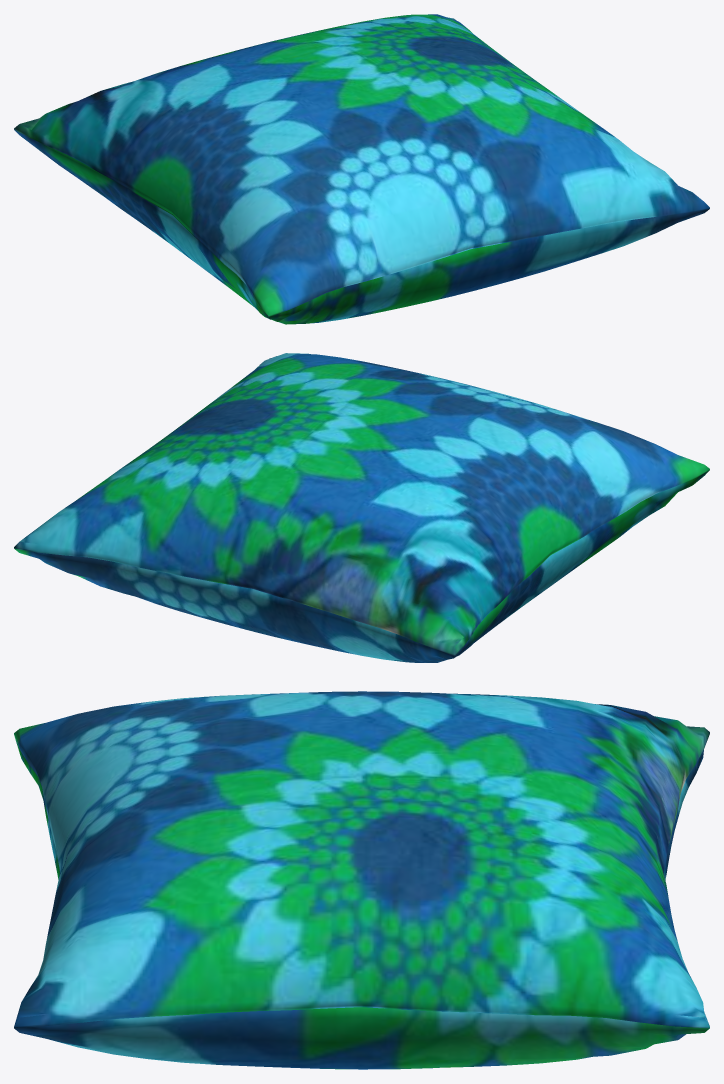
Rendered from cushion_throw_03.fbx.
3 views of the same model, one above another, from view 1: azimuth 30°, elevation 25°; view 2: azimuth 150°, elevation 25°; view 3: azimuth 270°, elevation 25° (orthographic). The views are drawn at different scales.
Parts seen in each view (by area): view 1: cush_throw1:cushion_throw; view 2: cush_throw1:cushion_throw; view 3: cush_throw1:cushion_throw.
Part boxes in pixels (box(x1,y1,x2,y2)): cush_throw1:cushion_throw: box(14, 14, 709, 324); cush_throw1:cushion_throw: box(14, 353, 709, 662); cush_throw1:cushion_throw: box(14, 691, 709, 1069).
Bounding box in the file's own units: 0.4828 × 0.1855 × 0.4829.
1 material, 1 textured.
